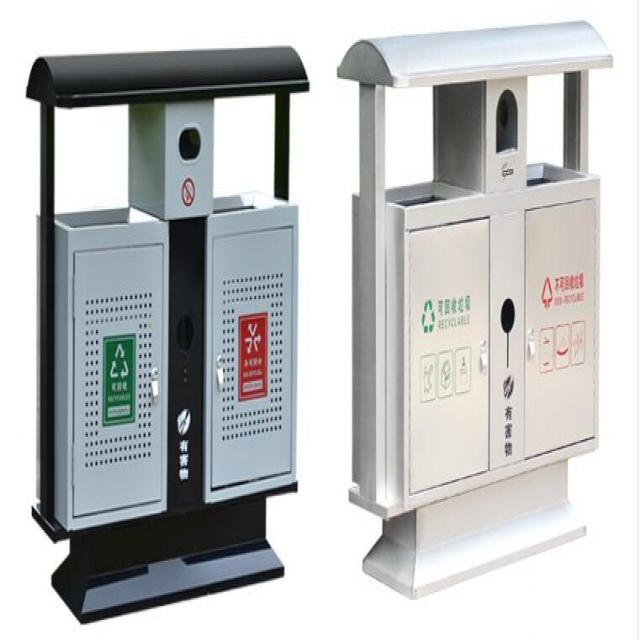ash bin: (20, 37, 312, 618), (334, 17, 616, 597)
